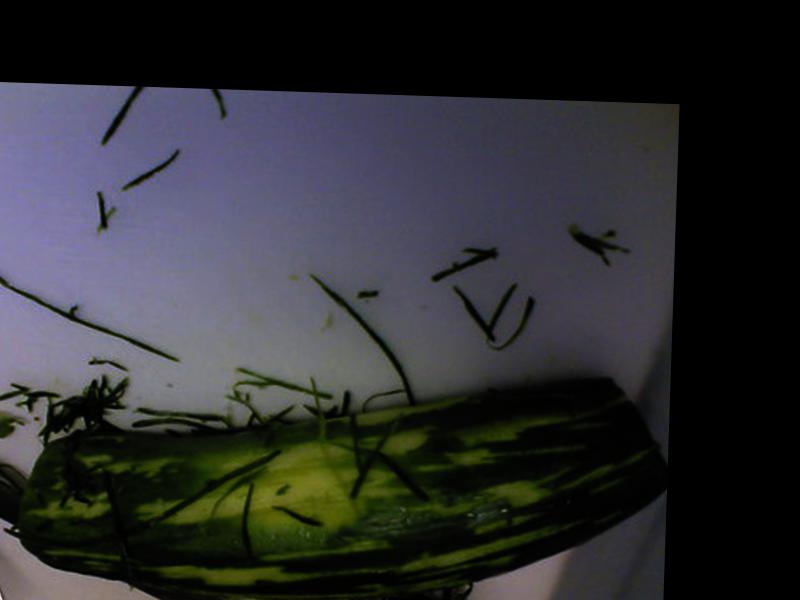Cucumber: (14, 357, 666, 600)
